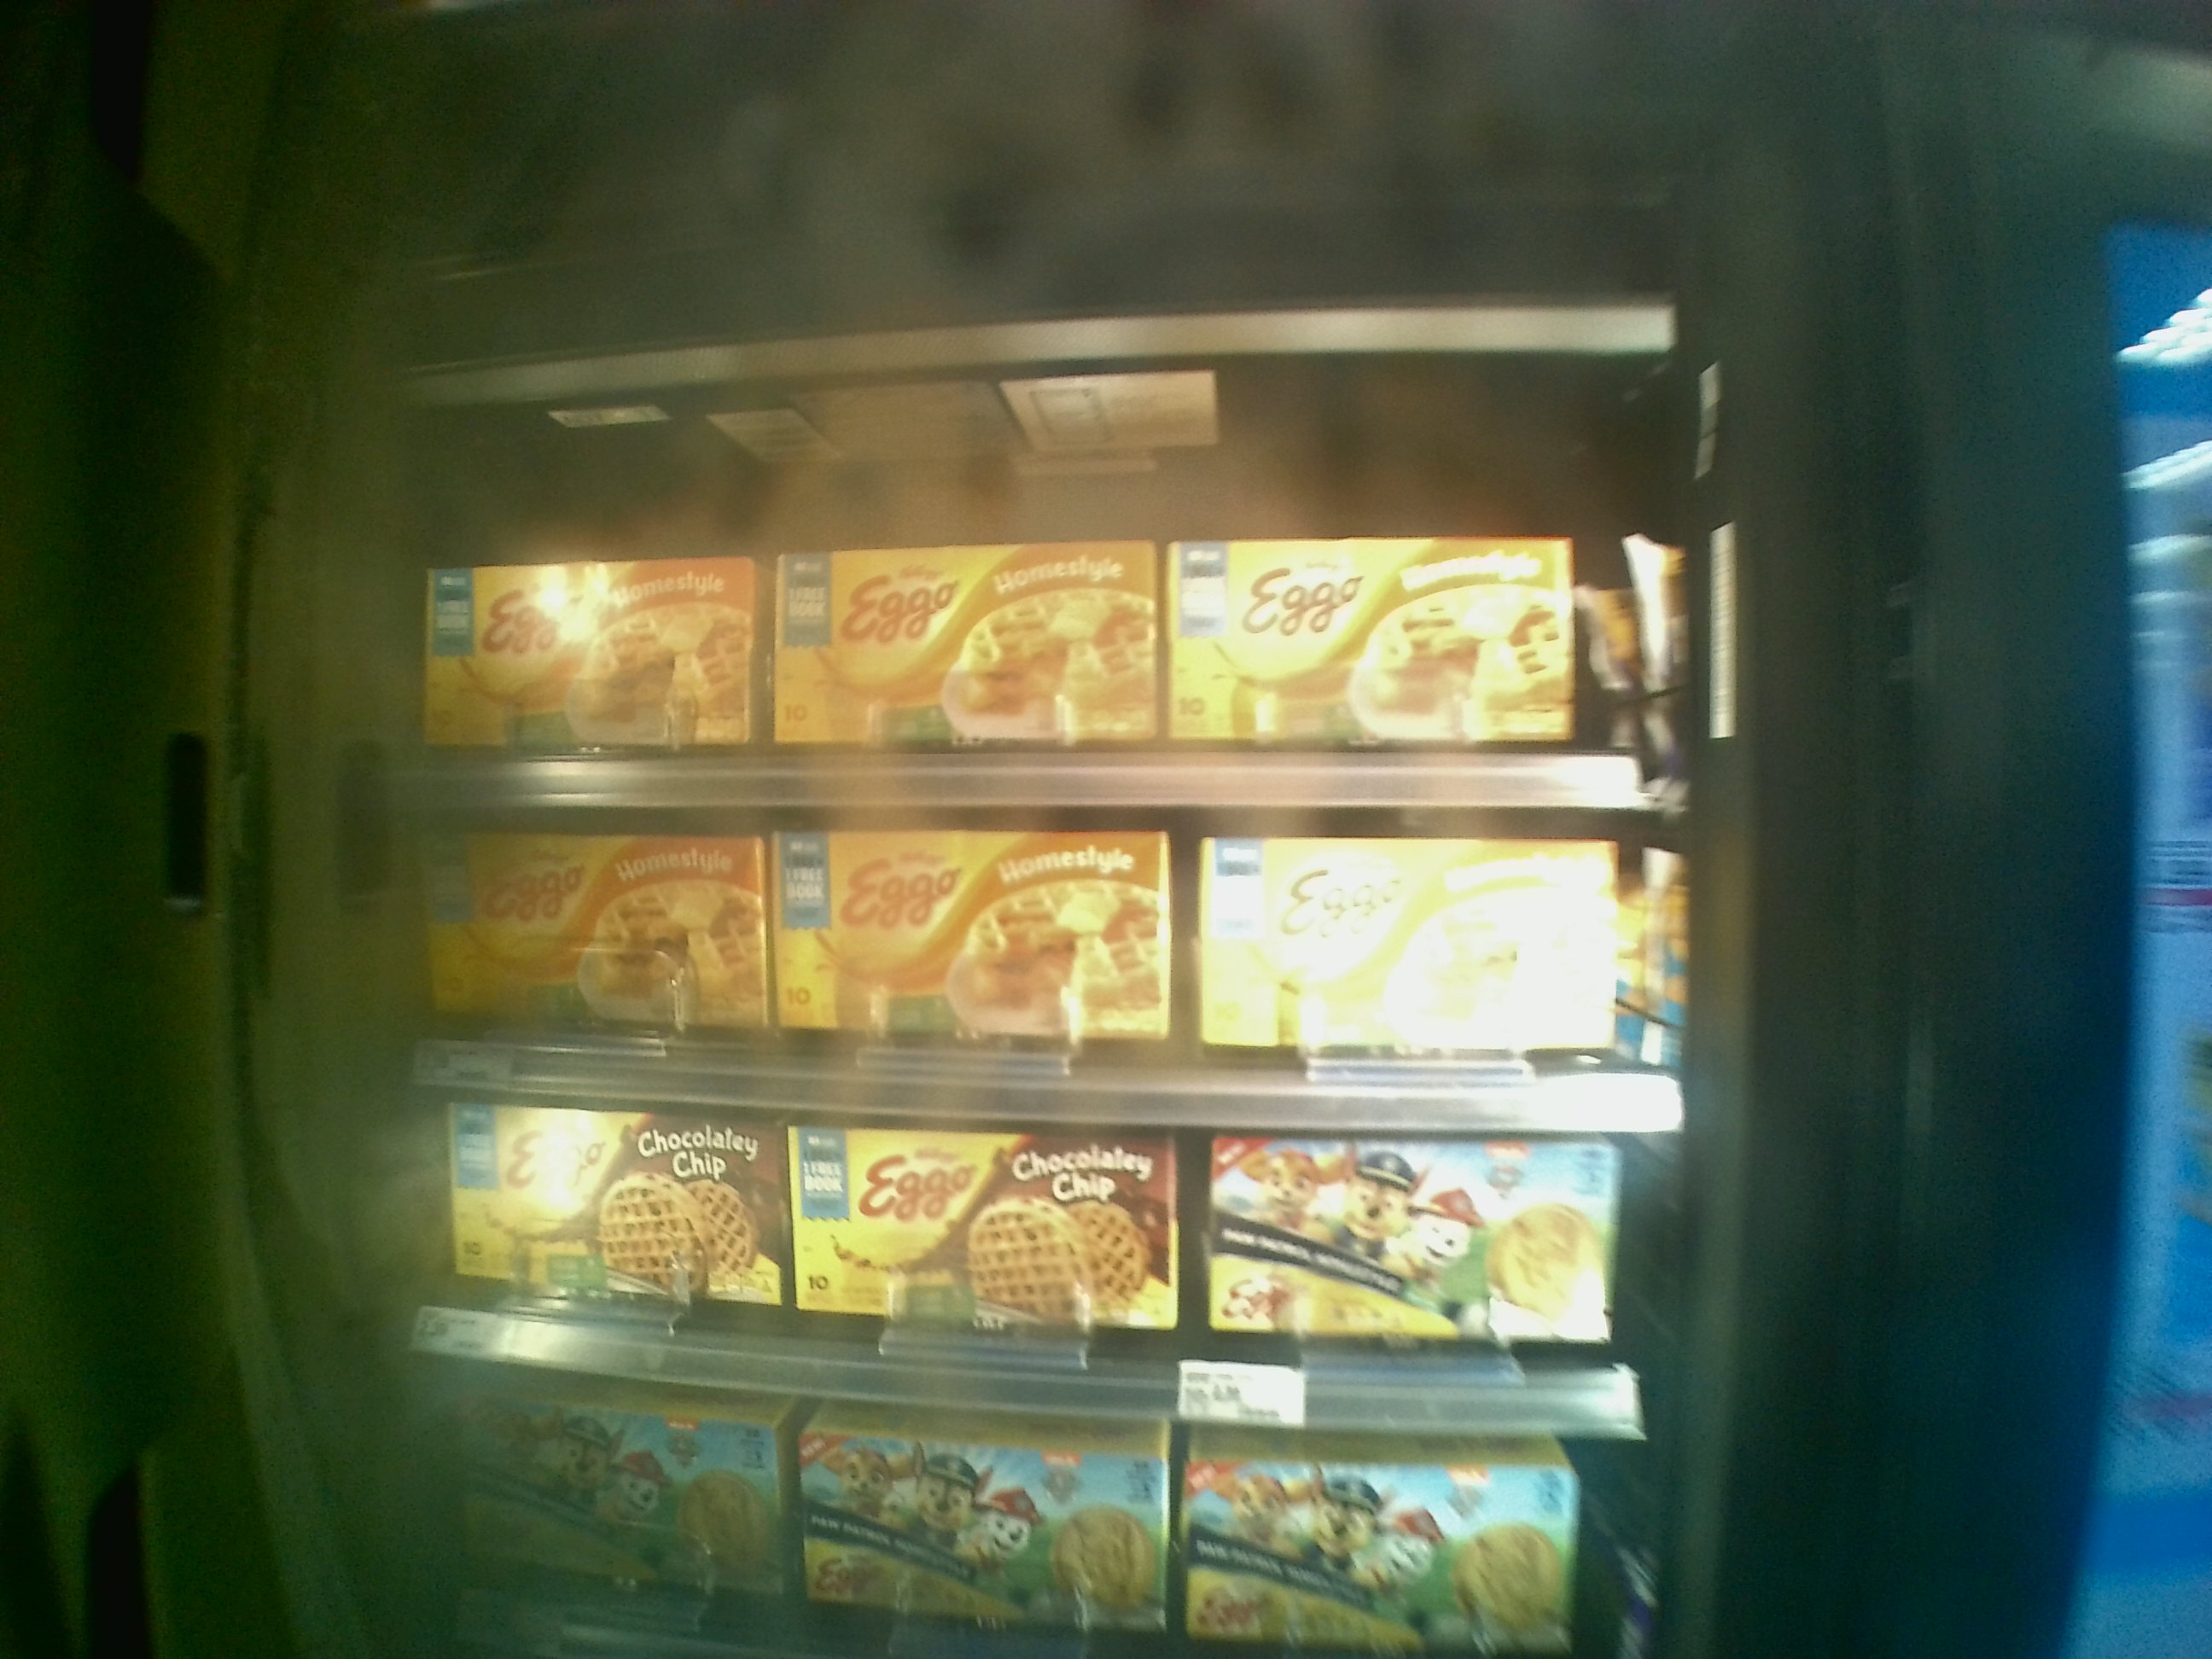frozen-food-shelf: (401, 803, 1707, 1145)
